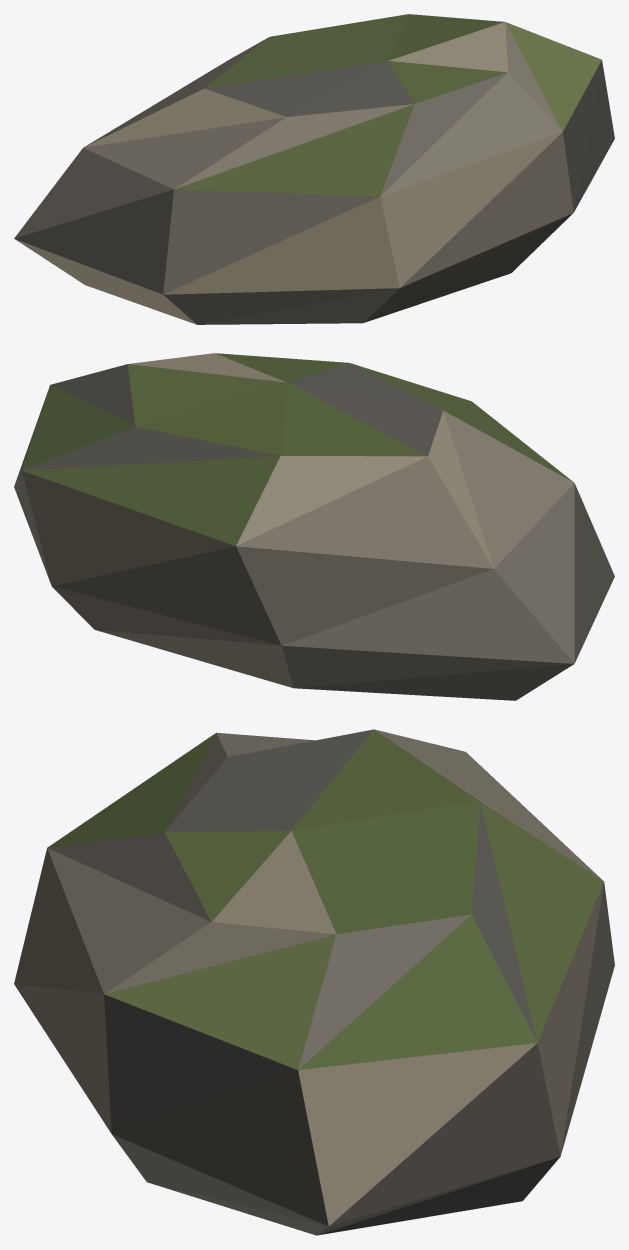
The model's file is stone_C.glb.
3 views of the same model, one above another, from view 1: azimuth 30°, elevation 25°; view 2: azimuth 150°, elevation 25°; view 3: azimuth 270°, elevation 25° (orthographic). The views are drawn at different scales.
Parts seen in each view (by area): view 1: stone_C; view 2: stone_C; view 3: stone_C.
Part boxes in pixels (x1,y1,x2,y2): stone_C: (14, 14, 614, 324); stone_C: (14, 353, 614, 700); stone_C: (14, 729, 614, 1235).
Bounding box in the file's own units: 0.3723 × 0.1248 × 0.2296.
